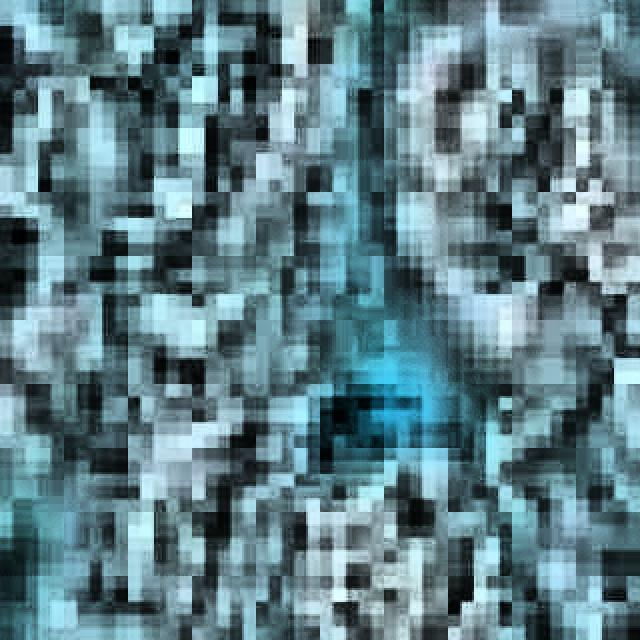plastic: (32, 0, 336, 640), (374, 0, 640, 640), (278, 370, 516, 640)
